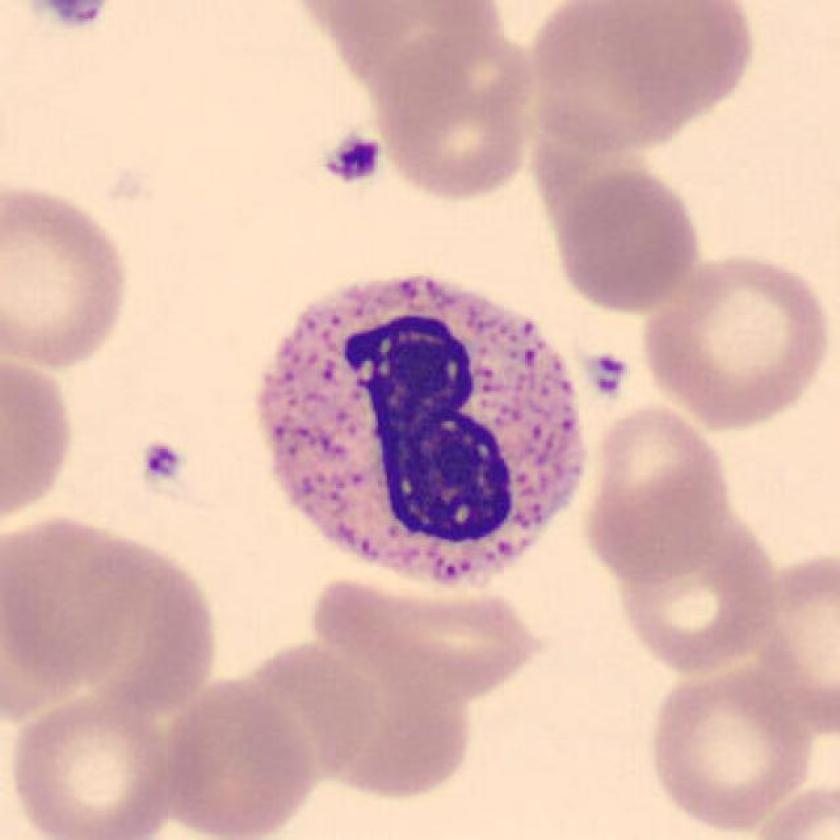neutrophil: (258, 278, 581, 582)
